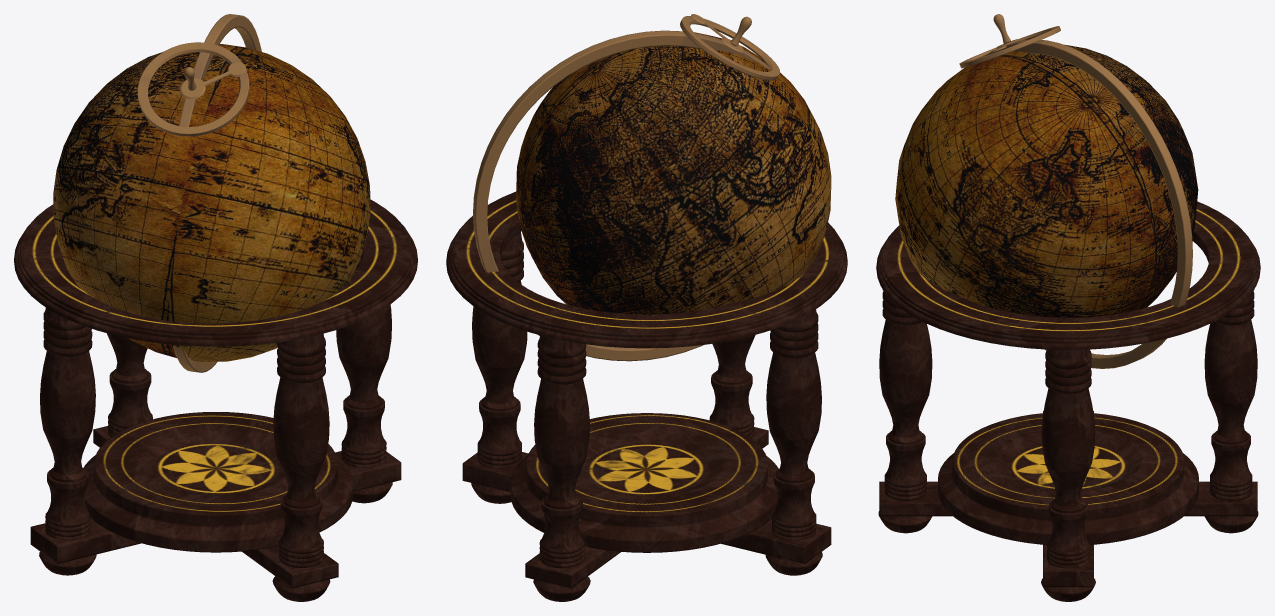
File: globe_separated.glb
3 views of the same model, side by side, from view 1: azimuth 30°, elevation 25°; view 2: azimuth 150°, elevation 25°; view 3: azimuth 270°, elevation 25° (orthographic). The views are drawn at different scales.
Visible parts, largest first — view 1: Old_Antique_Standing_Globe_Model, Old_Antique_Standing_Globe_Model.001; view 2: Old_Antique_Standing_Globe_Model, Old_Antique_Standing_Globe_Model.001; view 3: Old_Antique_Standing_Globe_Model, Old_Antique_Standing_Globe_Model.001.
Part boxes in pixels (x1=…): Old_Antique_Standing_Globe_Model: x1=14, y1=14, x2=417, y2=601; Old_Antique_Standing_Globe_Model.001: x1=53, y1=44, x2=370, y2=361; Old_Antique_Standing_Globe_Model: x1=446, y1=14, x2=847, y2=601; Old_Antique_Standing_Globe_Model.001: x1=516, y1=32, x2=831, y2=314; Old_Antique_Standing_Globe_Model: x1=876, y1=14, x2=1260, y2=601; Old_Antique_Standing_Globe_Model.001: x1=895, y1=44, x2=1198, y2=317.
Size of the model in its own units: 1.75 by 2.43 by 1.75.
1 material, 1 textured.
